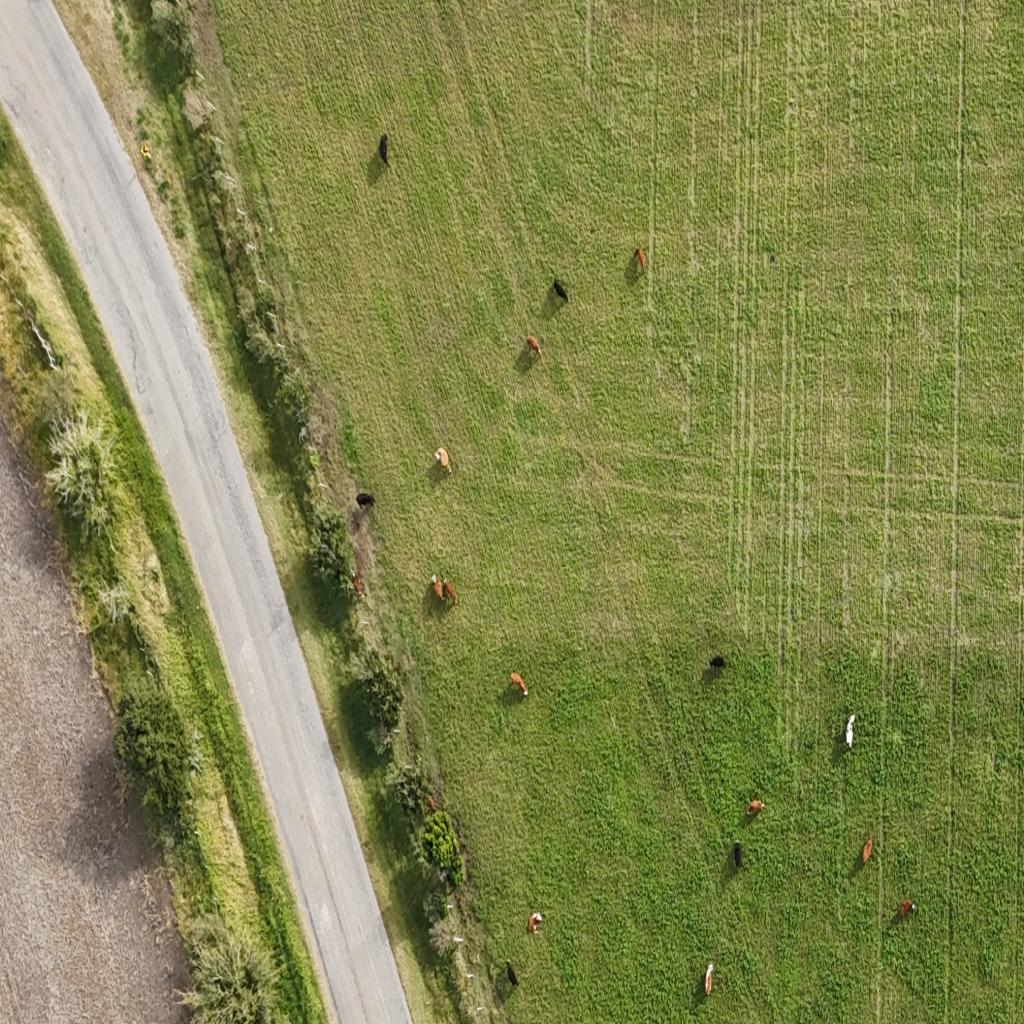cow: (434, 441, 454, 470), (703, 962, 717, 1000), (430, 572, 444, 607), (526, 334, 543, 362), (510, 672, 528, 698), (355, 490, 376, 511), (444, 576, 458, 607), (552, 277, 568, 302), (528, 911, 543, 934), (862, 834, 873, 865), (899, 899, 916, 919), (506, 961, 519, 987), (379, 133, 389, 165), (352, 572, 364, 597), (747, 799, 765, 815), (708, 655, 726, 671), (636, 246, 646, 272), (846, 719, 854, 750), (734, 841, 743, 867), (427, 796, 436, 812)
